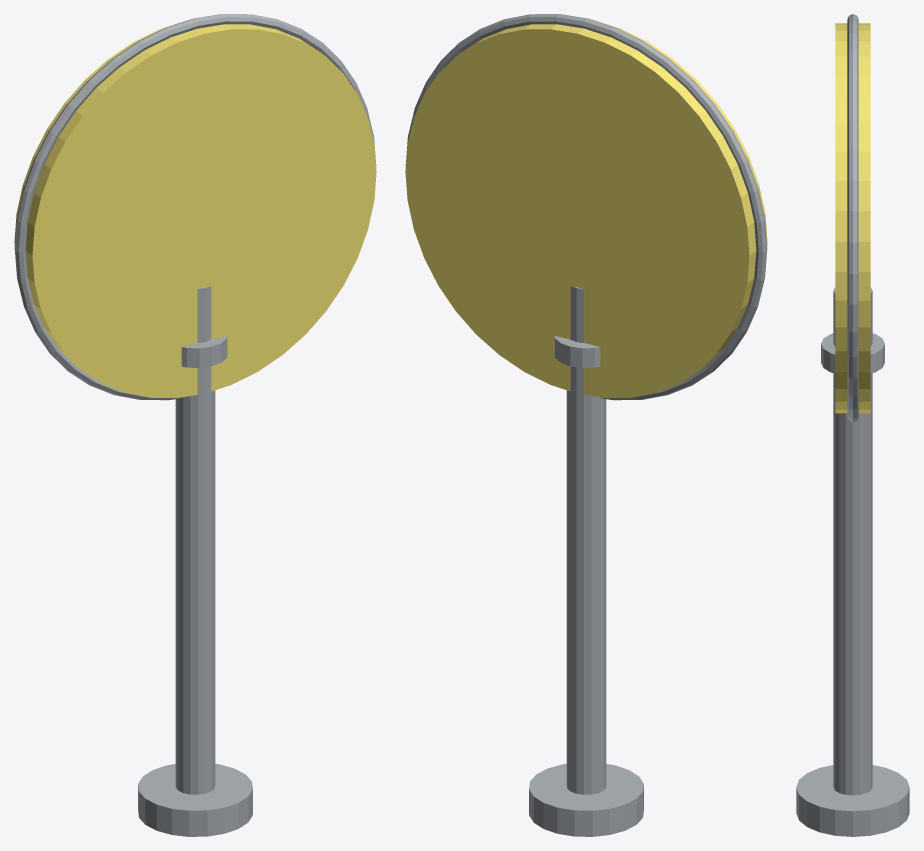
Rendered from state-fair-pin-music-stage.glb.
3 renders of one model, left to right at view 1: azimuth 30°, elevation 25°; view 2: azimuth 150°, elevation 25°; view 3: azimuth 270°, elevation 25°, orthographic.
Parts seen in each view (by area): view 1: SFPIN_SignDisc, SFPIN_Post, SFPIN_Rim, SFPIN_Base, SFPIN_Collar; view 2: SFPIN_SignDisc, SFPIN_Post, SFPIN_Rim, SFPIN_Base, SFPIN_Collar; view 3: SFPIN_Post, SFPIN_SignDisc, SFPIN_Base, SFPIN_Rim, SFPIN_Collar.
Boxes of the visible parts, x1,y1,x2,y2 form: SFPIN_SignDisc: (14,20,376,397); SFPIN_Post: (175,286,215,794); SFPIN_Rim: (14,14,376,400); SFPIN_Base: (138,764,252,836); SFPIN_Collar: (181,336,227,367); SFPIN_SignDisc: (405,20,767,397); SFPIN_Post: (566,286,606,794); SFPIN_Rim: (405,14,767,400); SFPIN_Base: (529,764,643,836); SFPIN_Collar: (554,336,600,367); SFPIN_Post: (833,287,872,795); SFPIN_SignDisc: (835,23,870,413); SFPIN_Base: (796,765,909,836); SFPIN_Rim: (847,14,858,422); SFPIN_Collar: (821,333,884,373).
Size of the model in its own units: 1.15 by 2.43 by 0.32.
